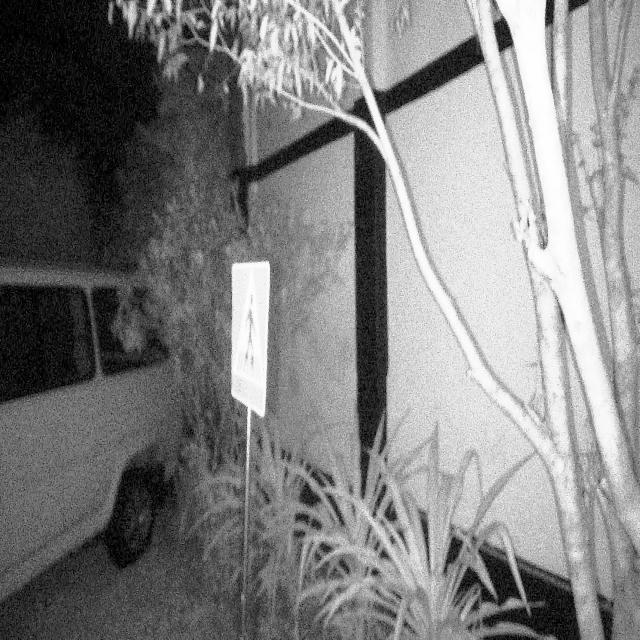Sign: (229, 258, 273, 420)
Tree: (463, 1, 640, 639)
